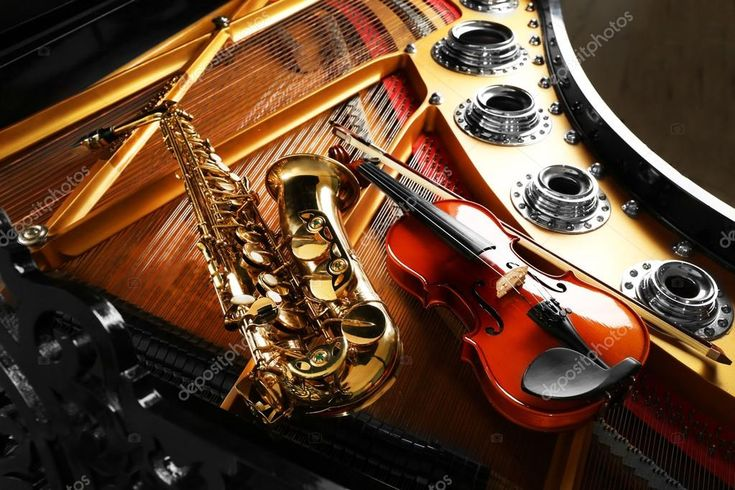Piano: (2, 6, 731, 479)
Saxophone: (60, 92, 401, 428)
Violin: (311, 106, 653, 422)
